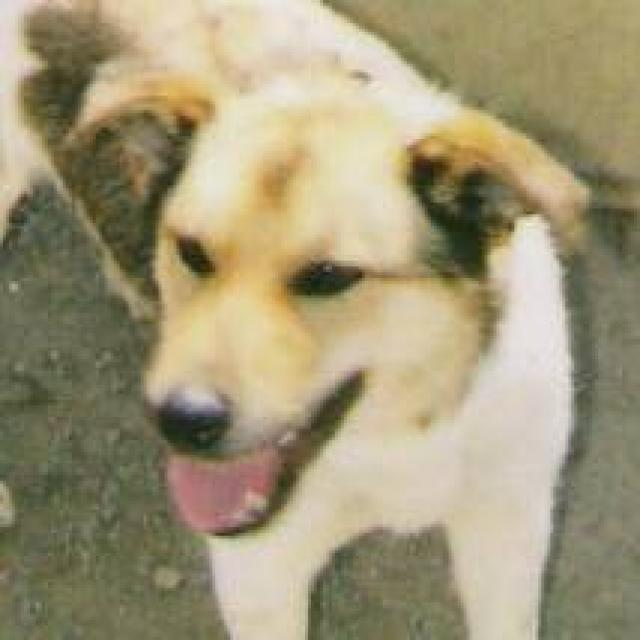Dog: (52, 55, 591, 560)
